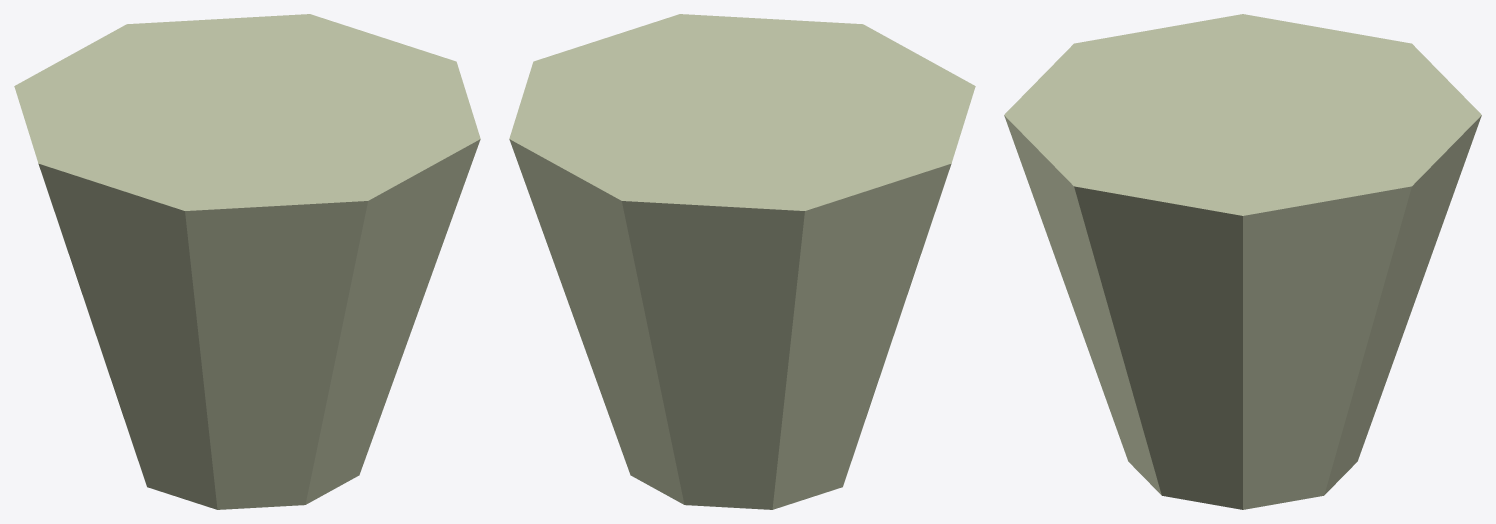
File: corvus_lv_bare_engine_s1_2_collider.obj
The picture shows the model from 3 angles, left to right: view 1: azimuth 30°, elevation 25°; view 2: azimuth 150°, elevation 25°; view 3: azimuth 270°, elevation 25°; orthographic projection.
Visible parts, largest first — view 1: corvus_lv_bare_engine_s1_2_collider; view 2: corvus_lv_bare_engine_s1_2_collider; view 3: corvus_lv_bare_engine_s1_2_collider.
Part boxes in pixels (bbox=[...]): corvus_lv_bare_engine_s1_2_collider: bbox=[14, 14, 480, 509]; corvus_lv_bare_engine_s1_2_collider: bbox=[509, 14, 975, 509]; corvus_lv_bare_engine_s1_2_collider: bbox=[1004, 14, 1481, 509].
Size of the model in its own units: 1.25 by 1 by 1.25.
